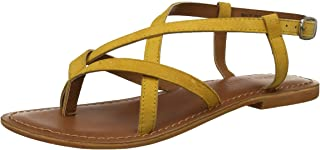shoes: (1, 1, 319, 147)
